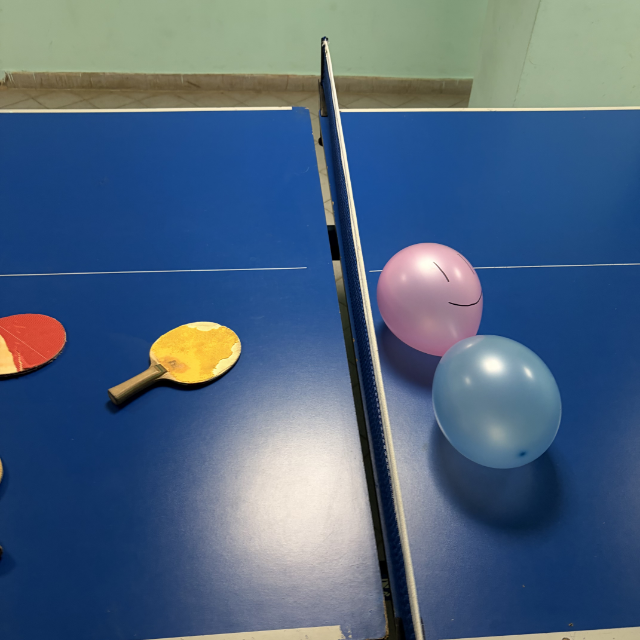balloon: (431, 334, 563, 470), (376, 241, 484, 357)
